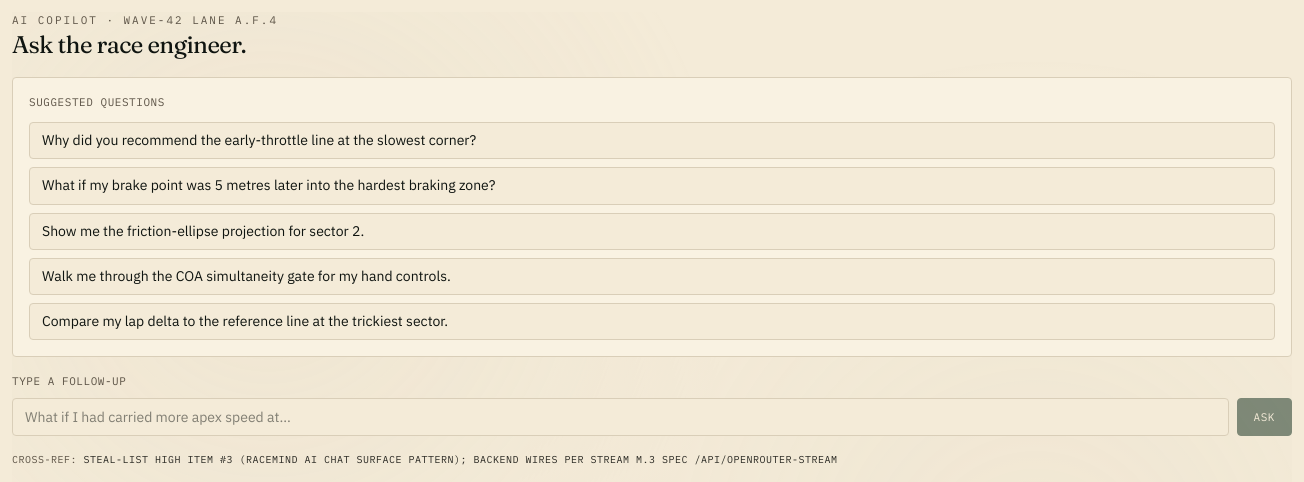
Scenario: AICopilotChat › renders the 'Live' indicator AND streaming partial when localState=asking + streamState=streaming
In the field: (620, 417) [12,398,1228,436], type "Why did you pick the early-throttle line?"
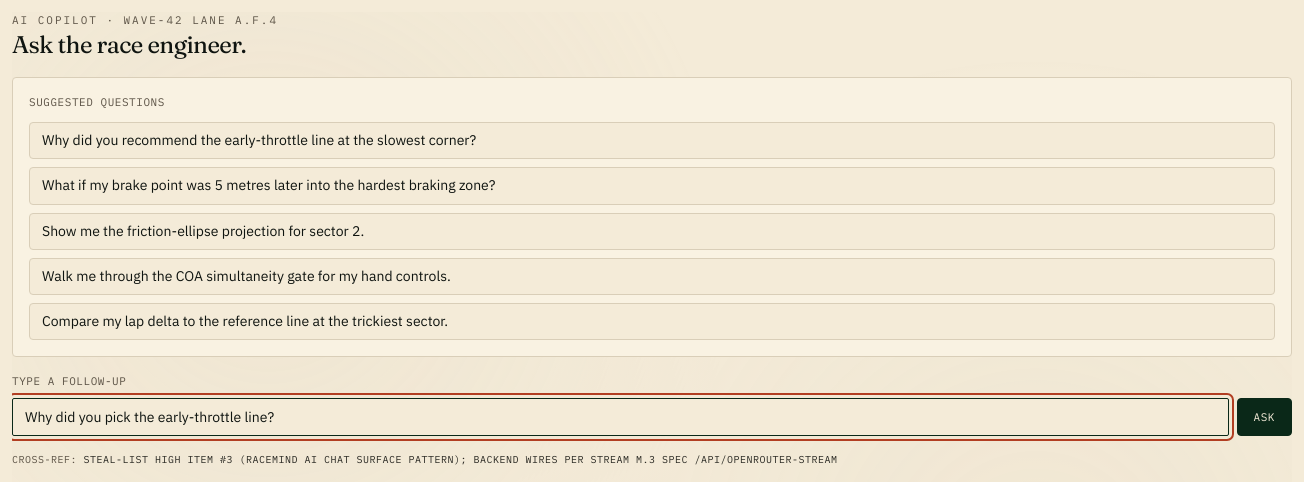
Click the button "Ask": (1264, 417) [1236,398,1292,436]
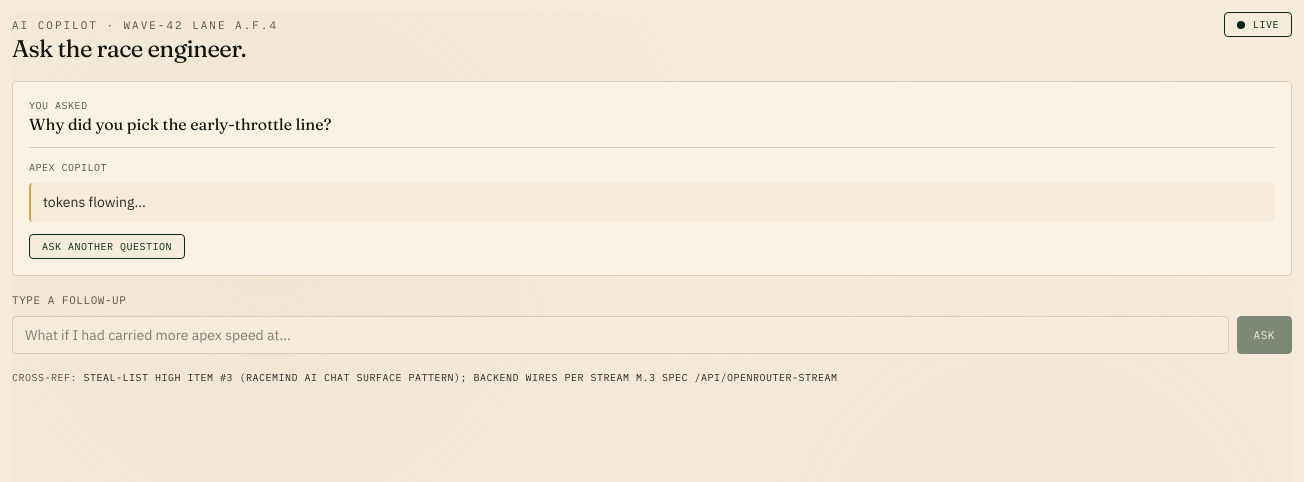
Result: the text "Live" is shown at [1224,12,1292,37]
Result: the text "tokens flowing..." is shown at [29,183,1275,222]
